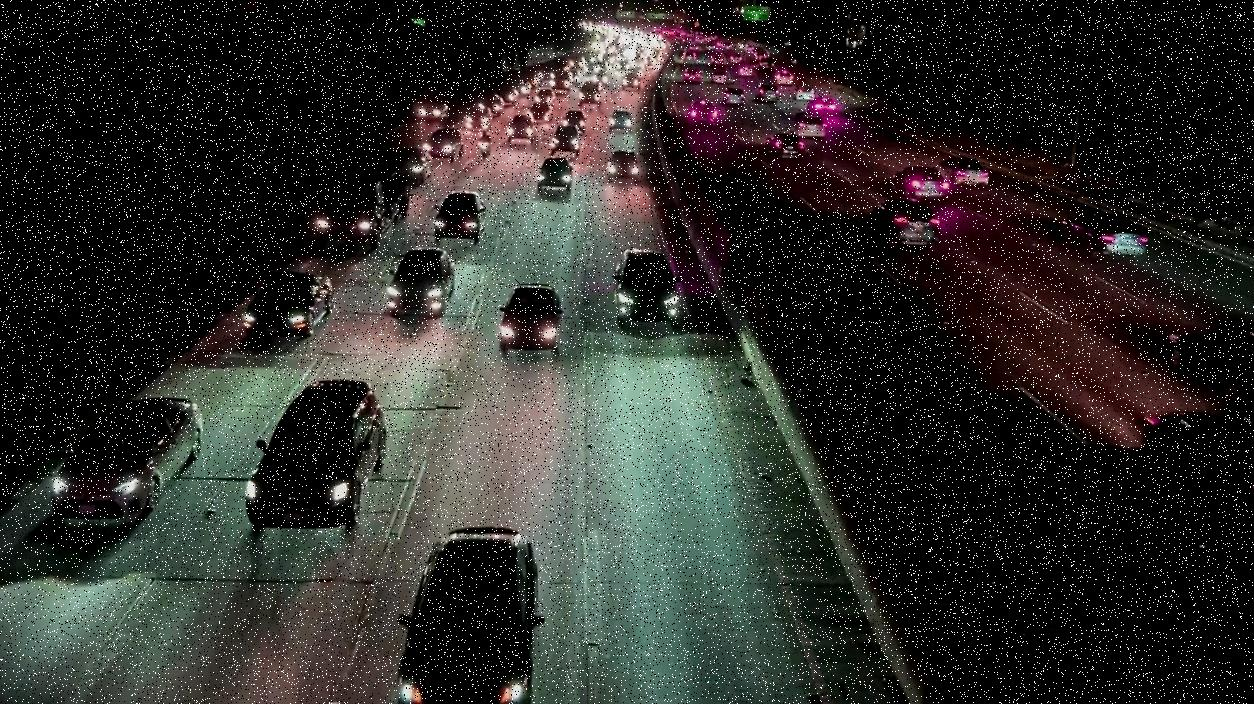bike: (476, 131, 493, 159)
car: (396, 525, 548, 704), (247, 379, 388, 524), (52, 393, 199, 525), (246, 272, 339, 334), (388, 250, 457, 326), (616, 248, 679, 325), (496, 285, 568, 352), (1056, 212, 1152, 257), (867, 197, 940, 246), (433, 194, 486, 242), (893, 164, 954, 199), (938, 155, 992, 187), (1101, 234, 1150, 260), (539, 156, 575, 190), (764, 132, 809, 157), (604, 150, 639, 178), (687, 100, 725, 125), (790, 113, 827, 136), (608, 109, 633, 132), (755, 84, 779, 102), (723, 86, 745, 104)
